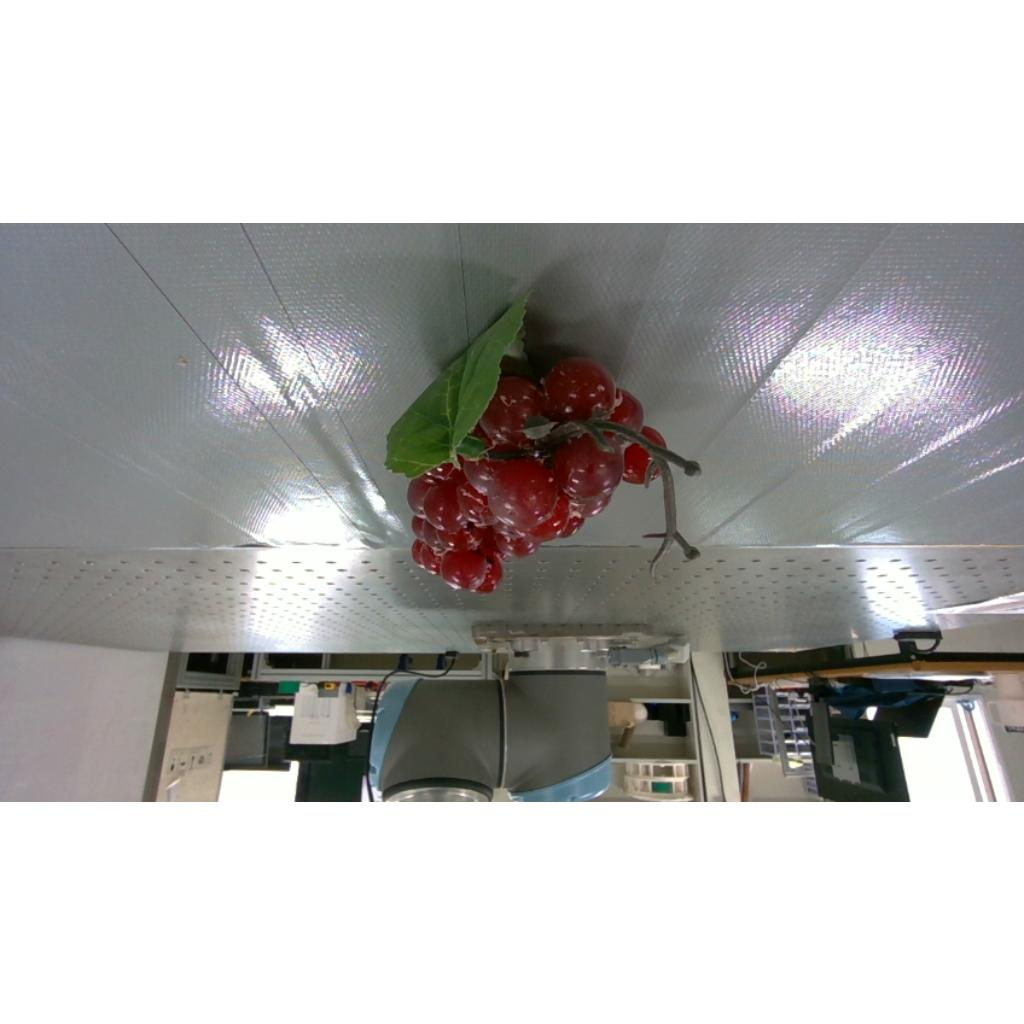grape: (386, 298, 700, 591)
